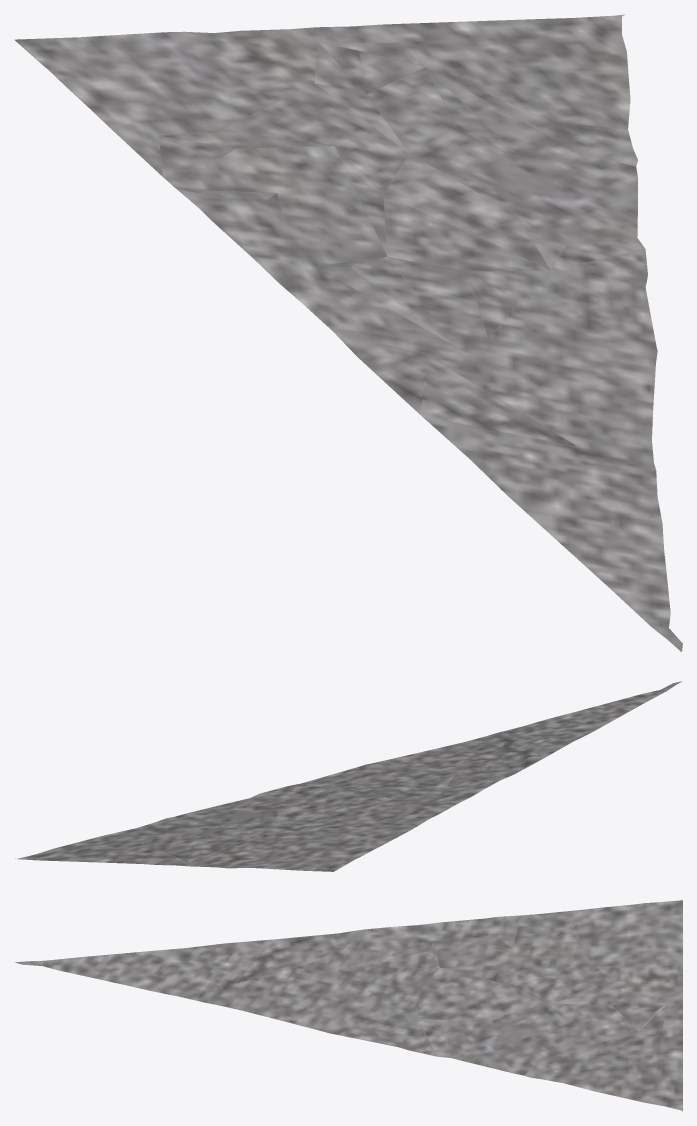
3 renders of one model, top to bottom at view 1: azimuth 30°, elevation 25°; view 2: azimuth 150°, elevation 25°; view 3: azimuth 270°, elevation 25°, orthographic. The views are drawn at different scales.
Bounding box in the file's own units: 0.5588 × 0.1083 × 1.06.
Materials: 1 (1 with a texture image).
